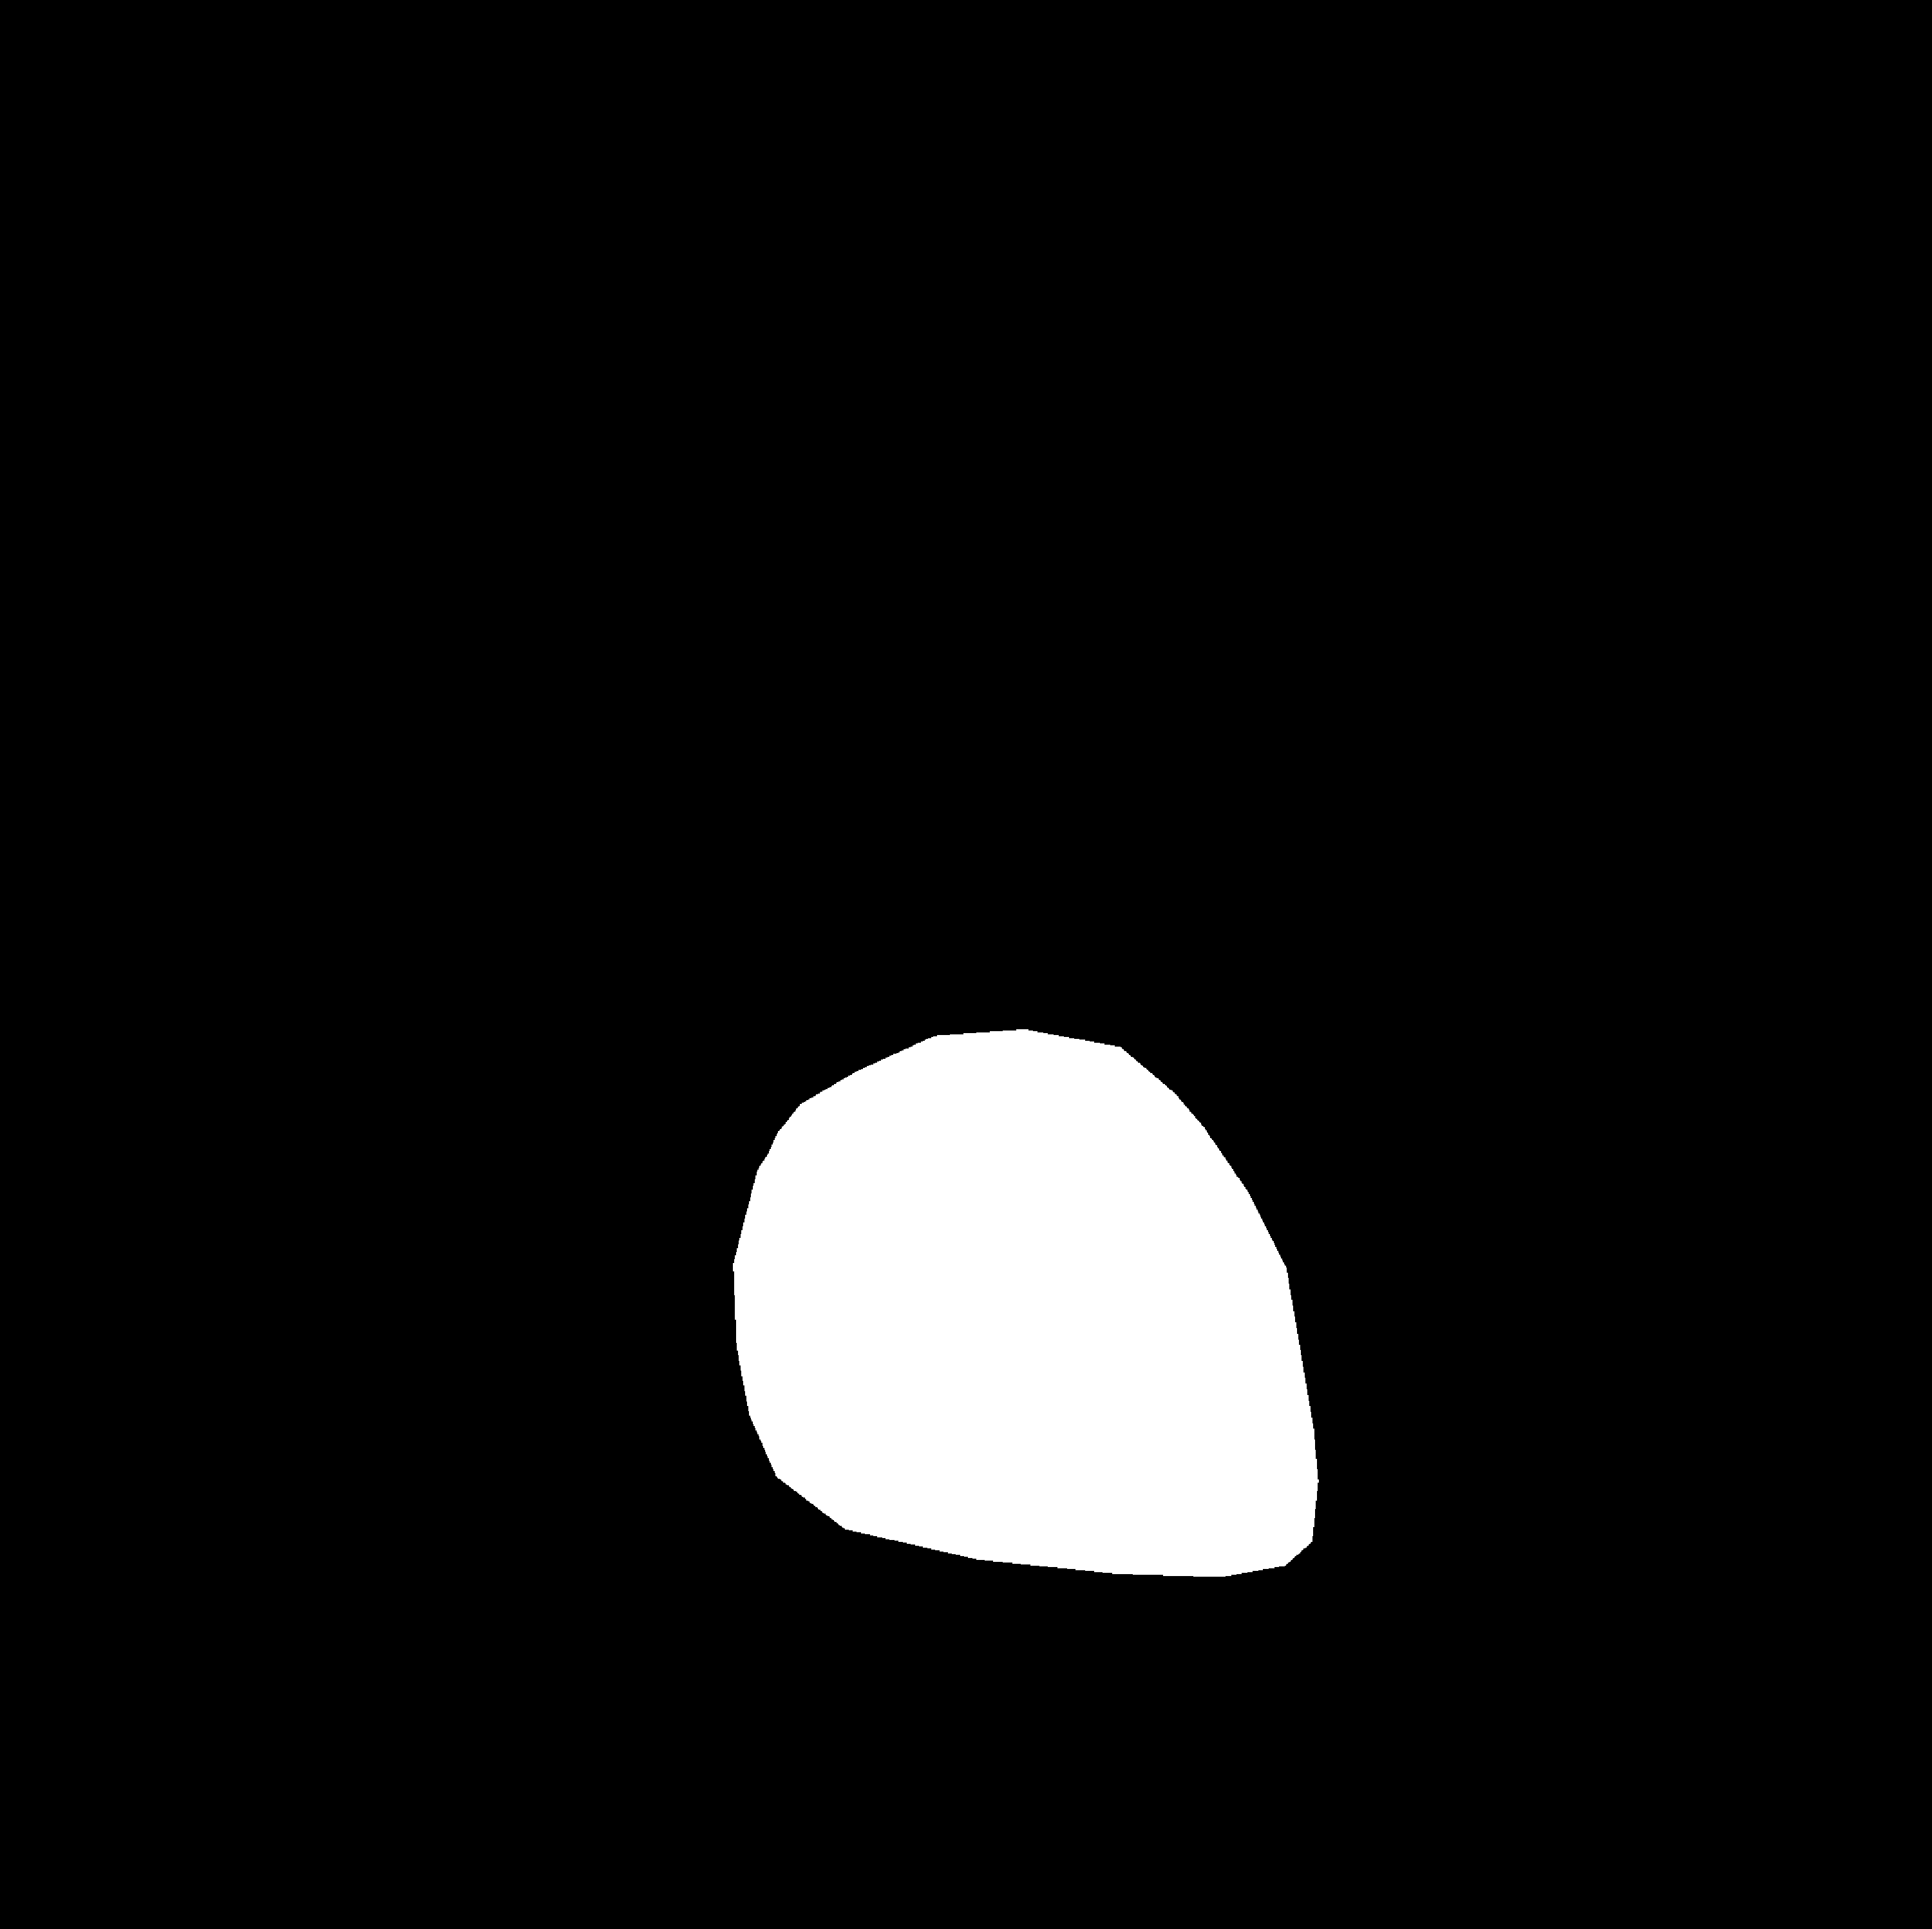heart: (733, 1074, 1314, 1555)
left_lung: (240, 247, 876, 1825)
right_lung: (1001, 279, 1604, 1807)
